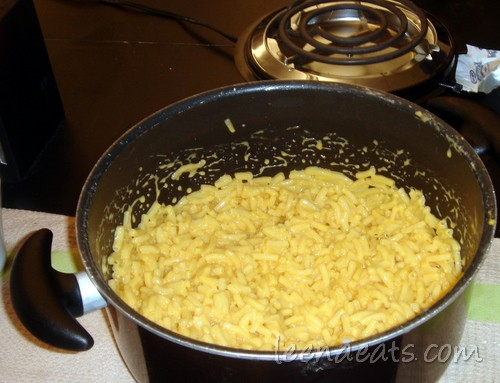macncheese: (110, 156, 461, 354)
